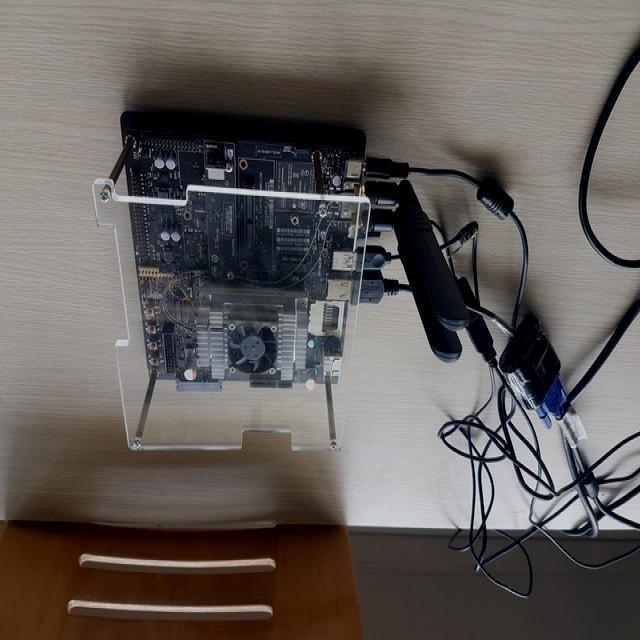Jetson TX2: (122, 113, 462, 389)
